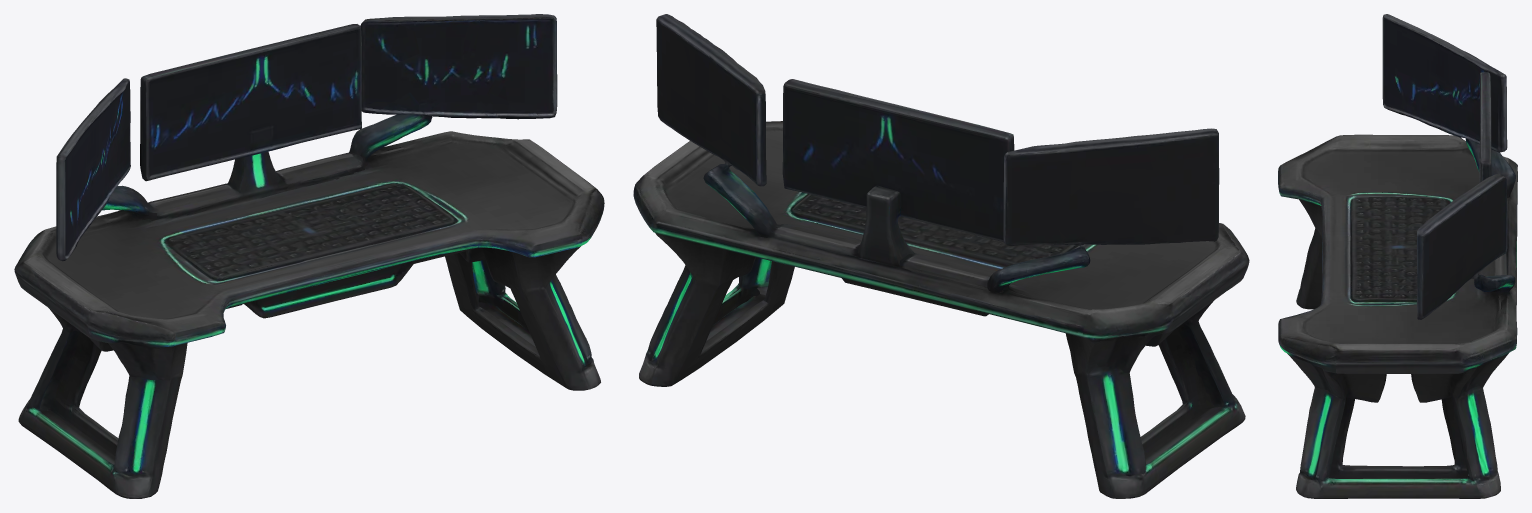
The model's file is m_crypto.glb.
3 renders of one model, left to right at view 1: azimuth 30°, elevation 25°; view 2: azimuth 150°, elevation 25°; view 3: azimuth 270°, elevation 25°, orthographic. The views are drawn at different scales.
Parts seen in each view (by area): view 1: geometry_0; view 2: geometry_0; view 3: geometry_0.
Part boxes in pixels (<box>): geometry_0: <box>14,14,604,498</box>; geometry_0: <box>633,14,1249,498</box>; geometry_0: <box>1278,14,1517,498</box>.
Bounding box in the file's own units: 0.9987 × 0.583 × 0.4583.
1 material, 1 textured.
